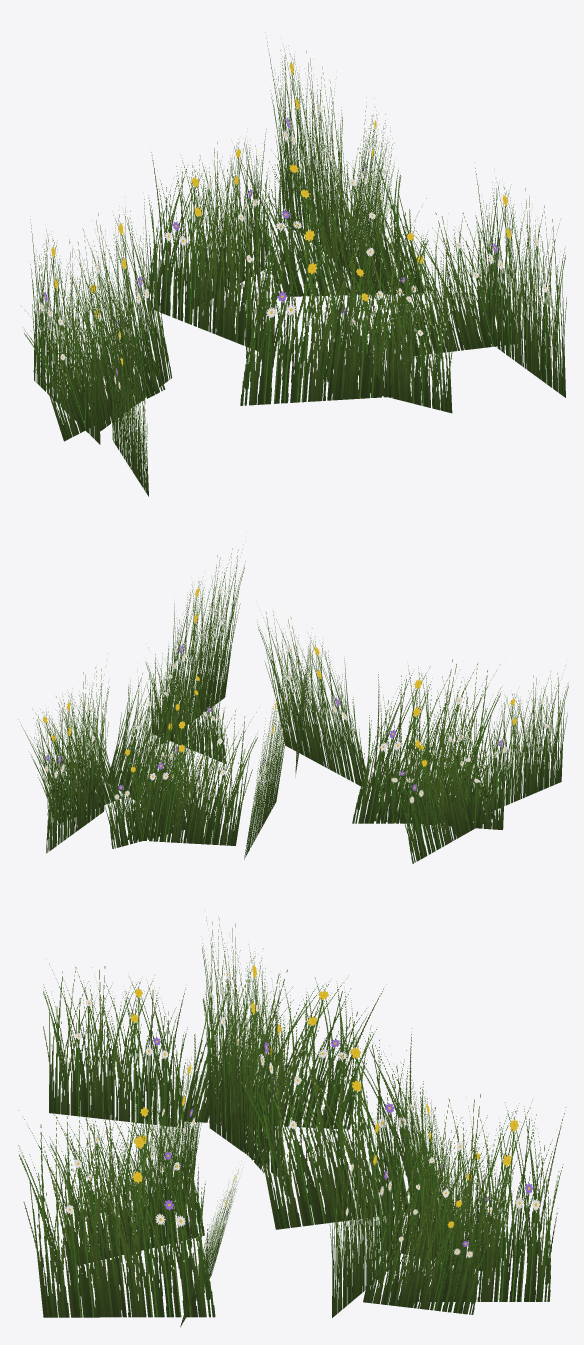
Rendered from wildflowers.glb.
3 views of the same model, one above another, from view 1: azimuth 30°, elevation 25°; view 2: azimuth 150°, elevation 25°; view 3: azimuth 270°, elevation 25° (orthographic). The views are drawn at different scales.
Visible parts, largest first — view 1: wildflowers; view 2: wildflowers; view 3: wildflowers.
Boxes of the visible parts, <box> form: wildflowers: <box>20,32,566,496</box>; wildflowers: <box>18,548,568,863</box>; wildflowers: <box>18,916,566,1327</box>.
Bounding box in the file's own units: 1.18 × 0.4973 × 1.17.
1 material, 1 textured.
